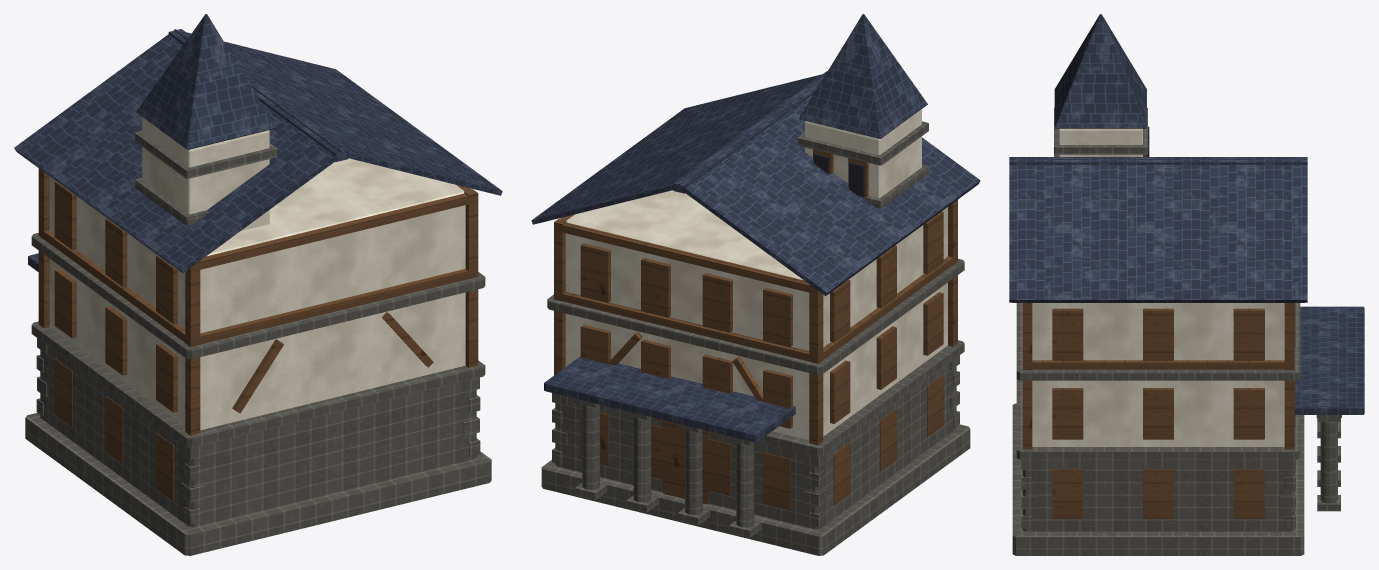
Rendered from university.gltf.
The picture shows the model from 3 angles, left to right: view 1: azimuth 30°, elevation 25°; view 2: azimuth 150°, elevation 25°; view 3: azimuth 270°, elevation 25°; orthographic projection. The views are drawn at different scales.
Parts seen in each view (by area): view 1: University; view 2: University; view 3: University.
Part boxes in pixels (x1,y1,x2,y2): University: [14, 14, 502, 555]; University: [531, 14, 980, 555]; University: [1009, 14, 1364, 555].
Bounding box in the file's own units: 4.03 × 5.86 × 4.31.
Materials: 8 (7 with a texture image).
